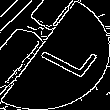L_NW: (19, 28, 91, 82)
